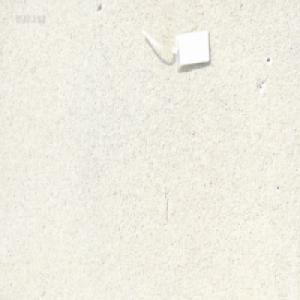LuggageTag: (139, 25, 212, 73)
